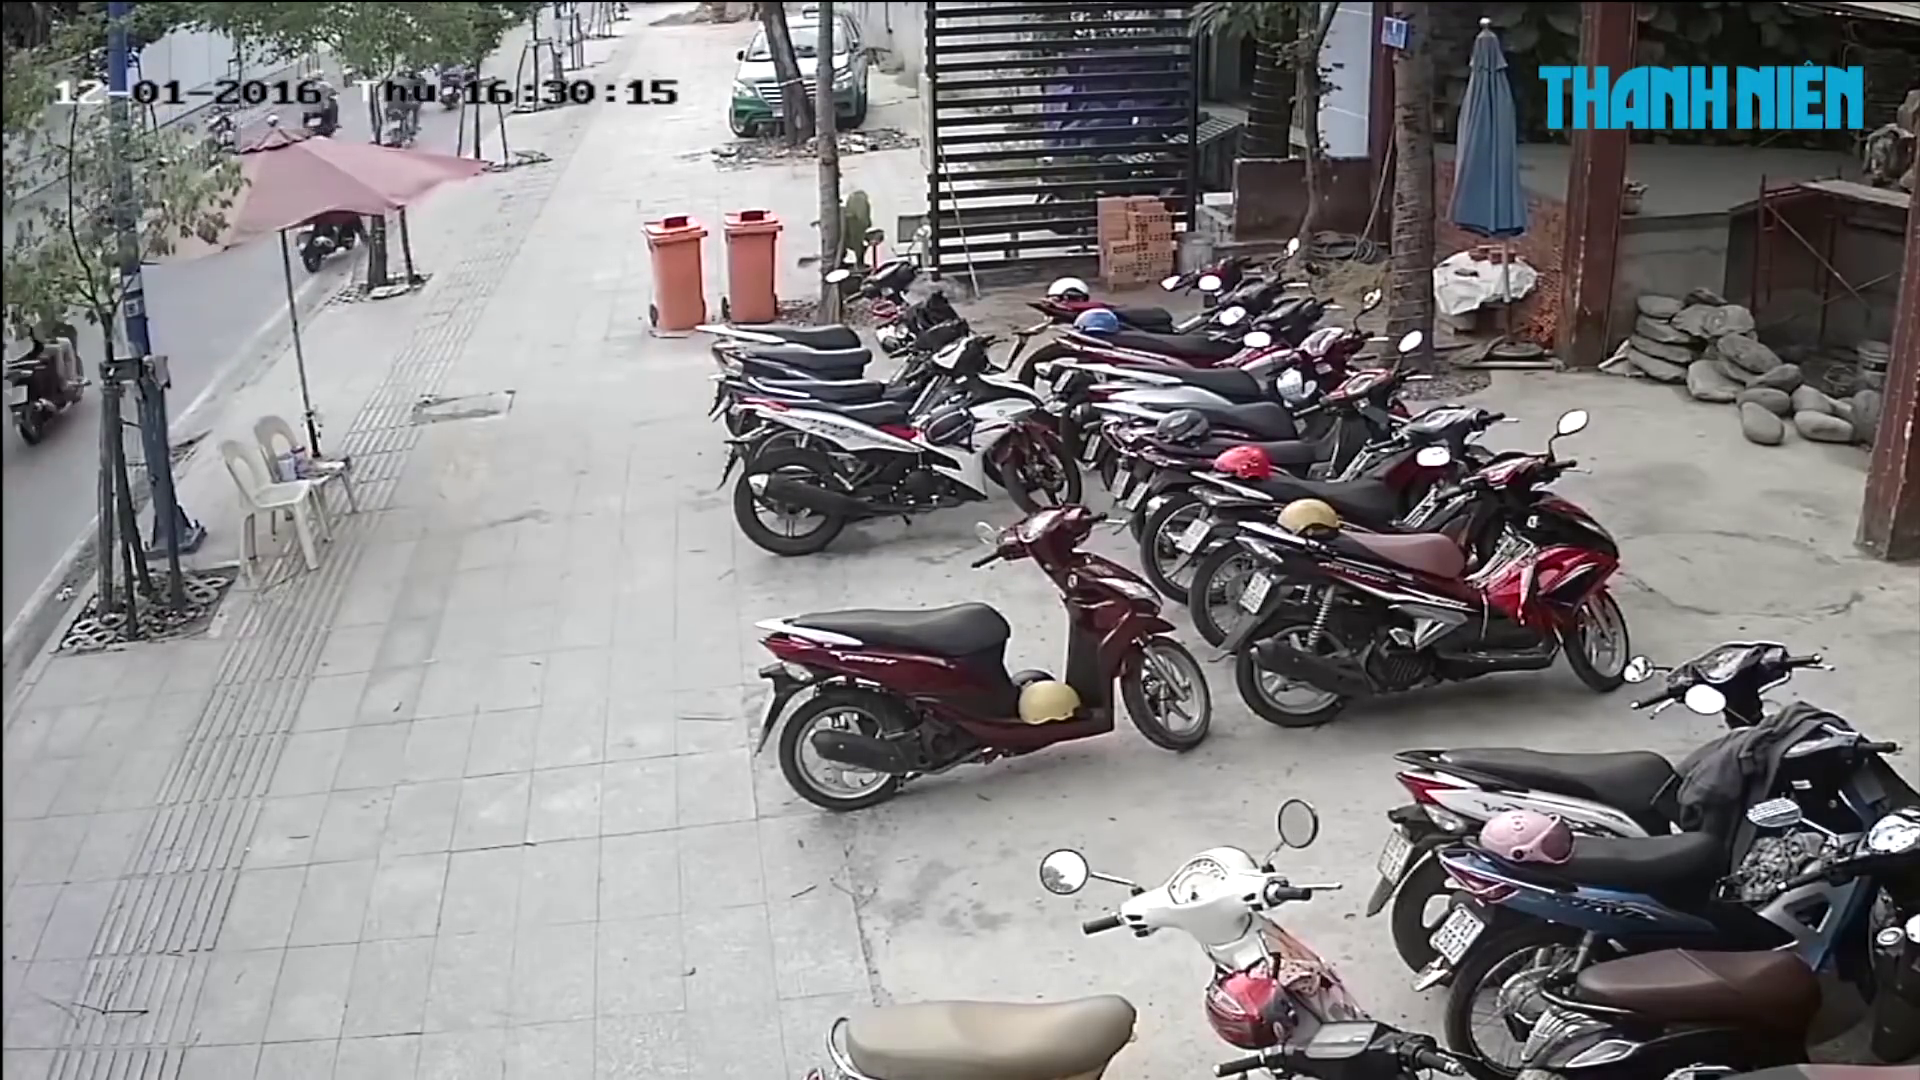Motorcycle: (1412, 699, 1917, 1065), (1364, 638, 1851, 975), (816, 798, 1373, 1076), (750, 497, 1215, 814), (1196, 409, 1633, 729), (1481, 804, 1919, 1071), (720, 323, 1084, 558), (1153, 404, 1516, 622), (1109, 331, 1425, 529), (1044, 289, 1379, 464), (708, 289, 977, 421), (1029, 239, 1305, 351), (1042, 287, 1335, 382), (709, 286, 969, 385)
